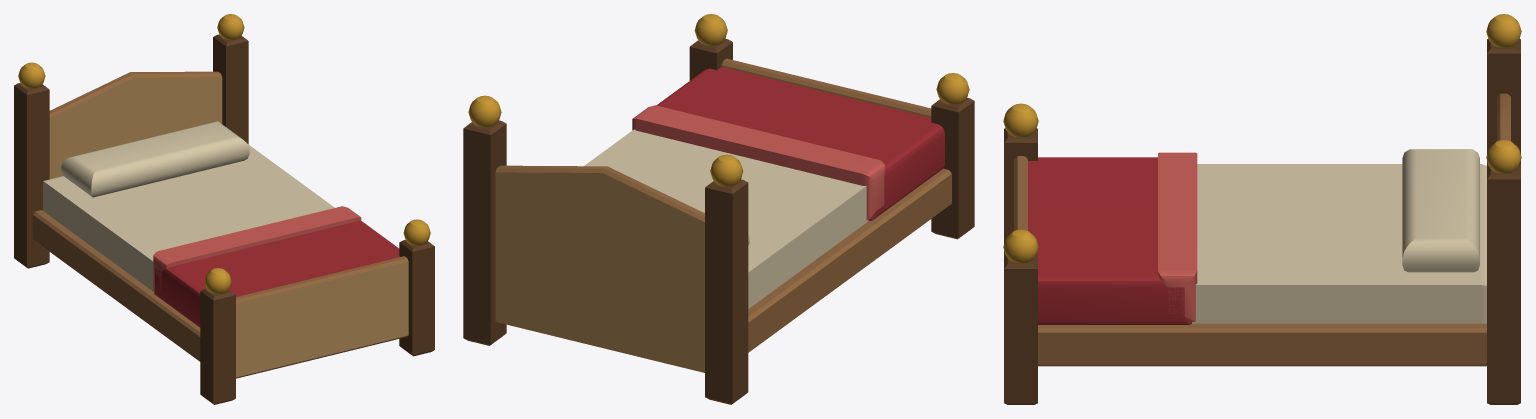
File: Bed_10.glb
3 views of the same model, side by side, from view 1: azimuth 30°, elevation 25°; view 2: azimuth 150°, elevation 25°; view 3: azimuth 270°, elevation 25° (orthographic). The views are drawn at different scales.
Parts seen in each view (by area): view 1: Bed_10; view 2: Bed_10; view 3: Bed_10.
Boxes of the visible parts, x1,y1,x2,y2 form: Bed_10: (14,14,434,404); Bed_10: (463,14,974,404); Bed_10: (1003,14,1521,404).
Size of the model in its own units: 4.72 by 4.03 by 7.34.
